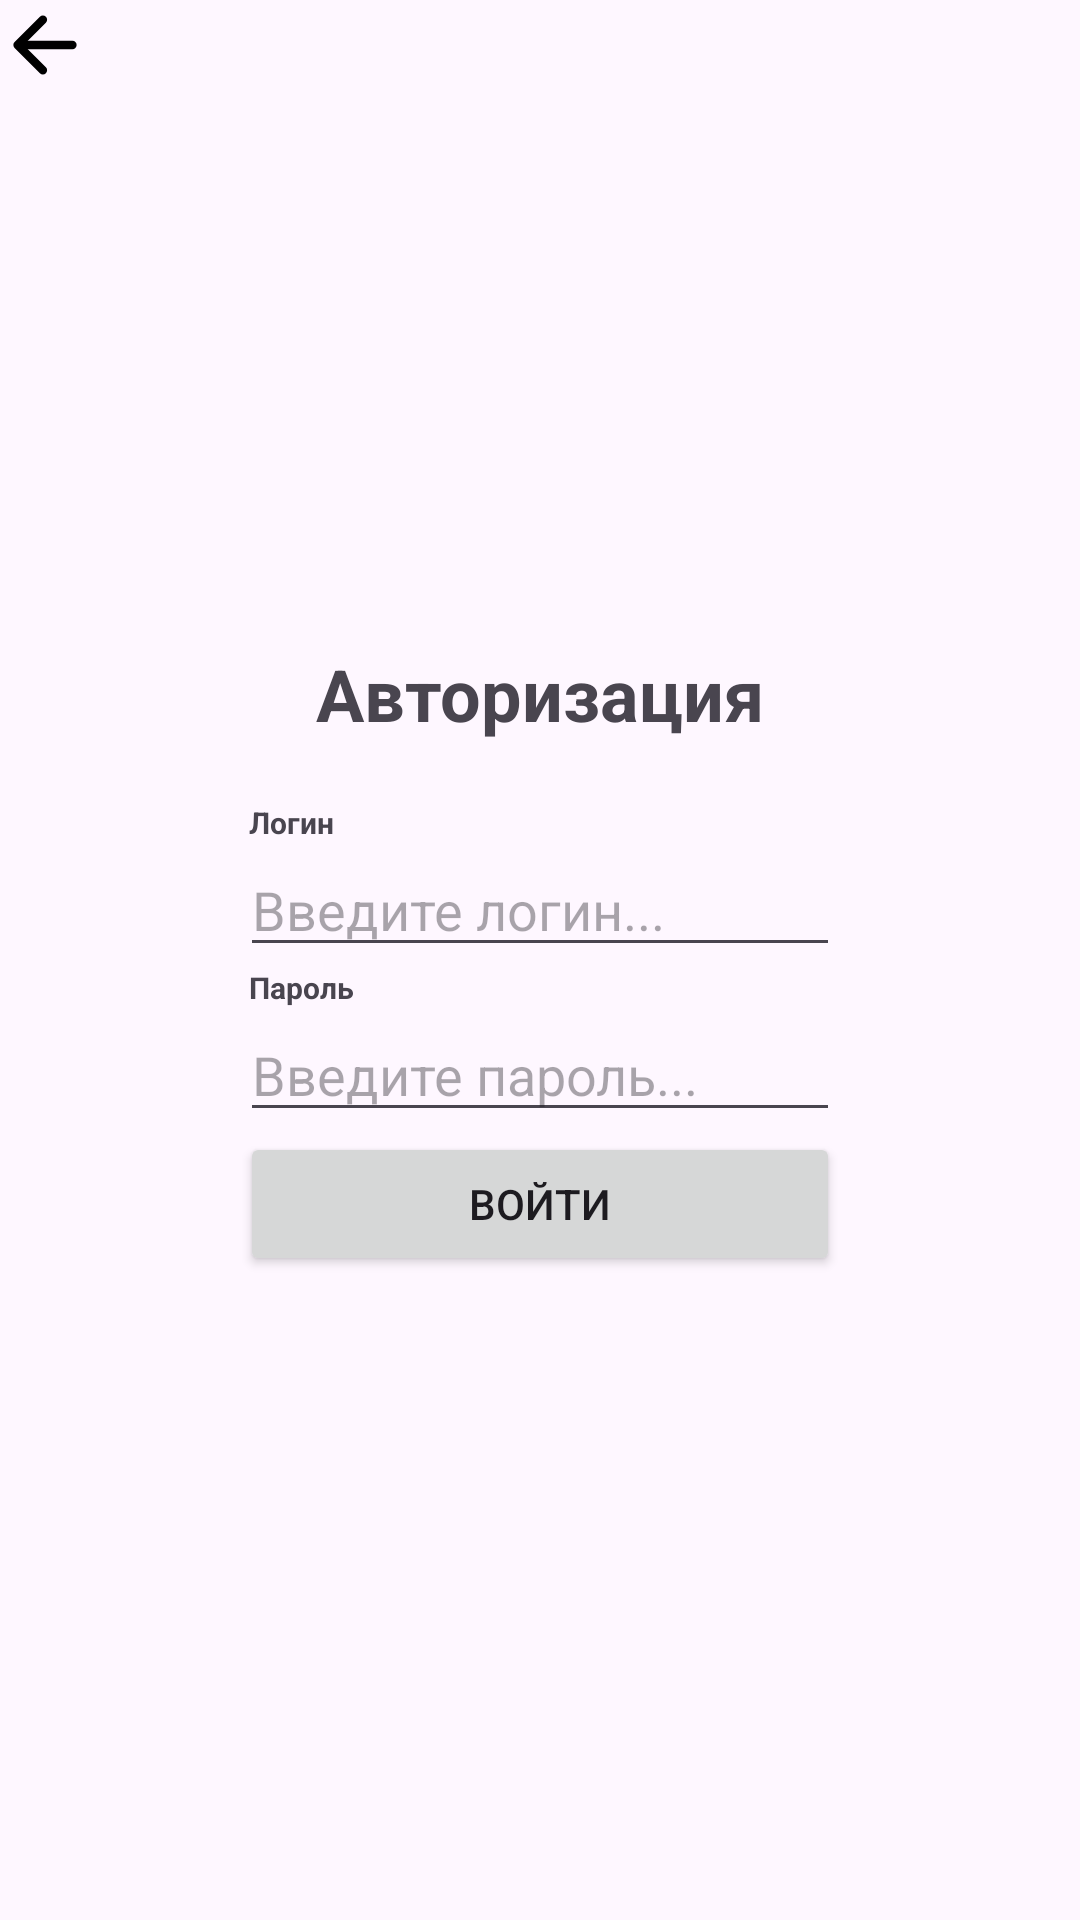

Where icons sit on this 1080 × 1920 app screen, as (x1, y1, x2, y2):
arrow back: (13, 15, 77, 75)
